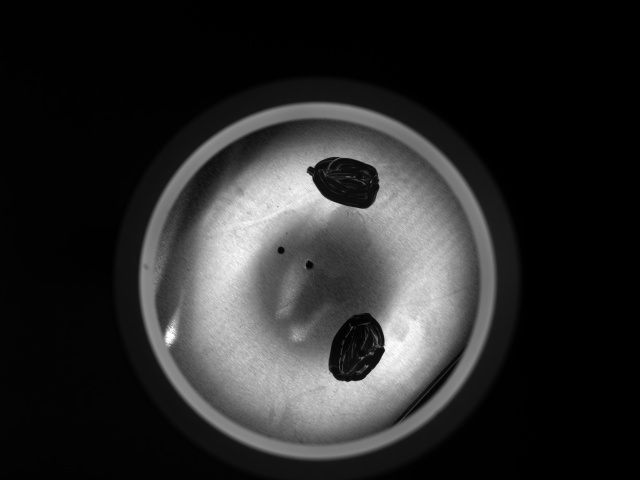zang_wu: (328, 310, 388, 384), (305, 155, 379, 211)
zhen_kong: (303, 258, 315, 270), (275, 245, 286, 255)
